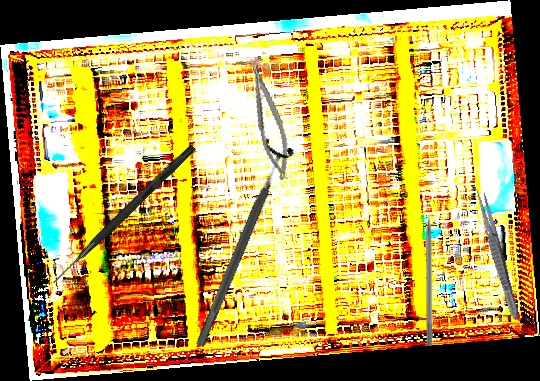Dressing Forceps: (472, 186, 523, 322)
Fixation Ring: (184, 138, 297, 352)
Hook Surgical: (51, 142, 196, 288)
Needle Holder: (244, 54, 295, 183)
Pusher: (426, 198, 434, 346)
